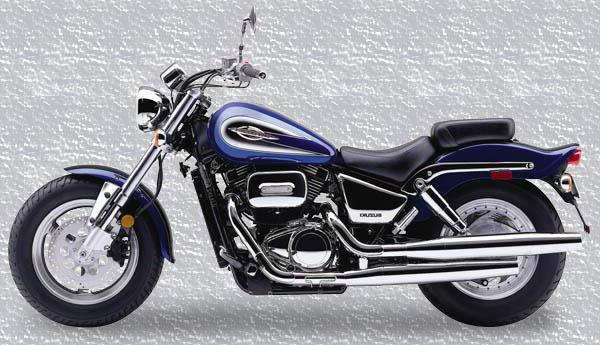motorcycle: (5, 6, 591, 342)
